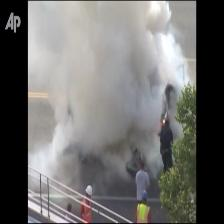smoke: (64, 9, 155, 142)
